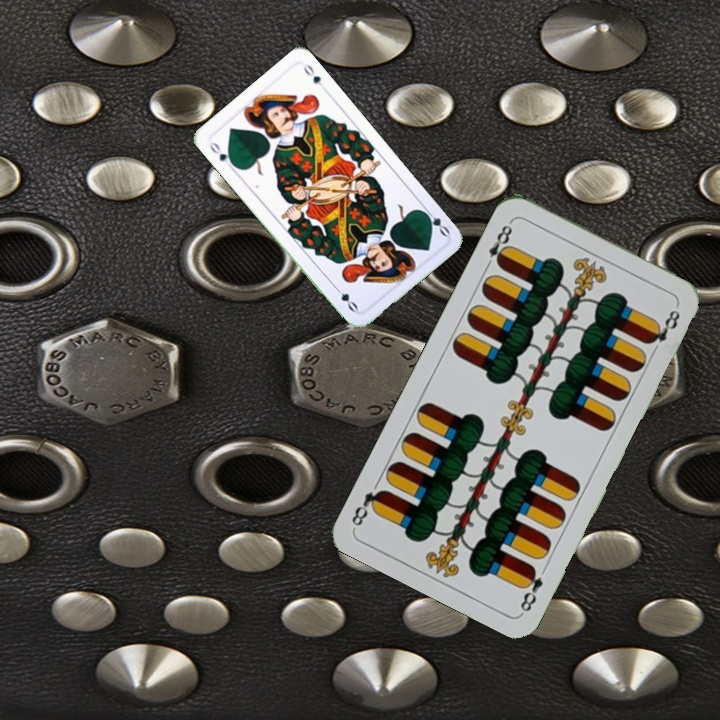E8: (481, 217, 515, 271), (516, 562, 546, 616)
GO: (418, 204, 452, 239), (205, 138, 238, 172)
